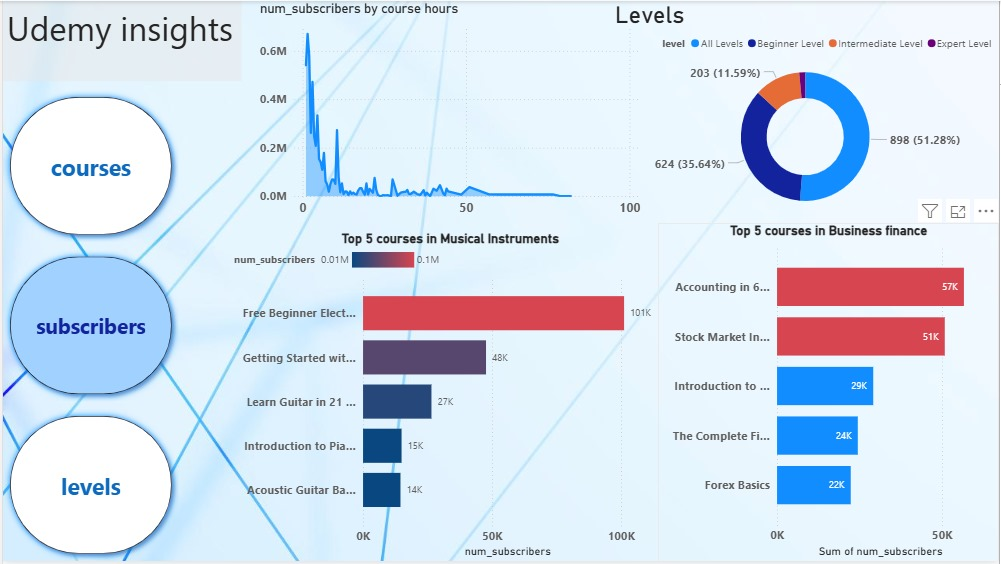

This screenshot's page, from the dashboard's own definition file:
{"tool":"powerbi","page":{"name":"subscribers","canvas":[1280,720],"ordinal":1},"visuals":[{"type":"areaChart","title":"num_subscribers by course hours","fields":{"Category":["Udemy.content_duration_by_hours"],"Y":["Sum(Udemy.num_subscribers)"]},"box":[324.7,0,499.1,285.8],"z":0},{"type":"clusteredBarChart","title":"Top 5 courses in Musical Instruments","fields":{"Y":["Sum(Udemy.num_subscribers)"],"Category":["Udemy.course_title"]},"box":[291.2,295.2,566.2,425.3],"z":1000},{"type":"clusteredBarChart","title":"Top 5 courses in Business finance","fields":{"Y":["Sum(Udemy.num_subscribers)"],"Category":["Udemy.course_title"]},"box":[841.3,285.8,438.7,434.7],"z":2000},{"type":"donutChart","title":"Levels","fields":{"Category":["Udemy.level"],"Y":["CountNonNull(Udemy.level)"]},"box":[780.9,0,499.1,285.8],"z":3000},{"type":"textbox","box":[0,0,307.3,103.3],"z":4000},{"type":"pageNavigator","box":[0,114.4,226.2,605.3],"z":4001}]}

Visuals, with their boxes in screenshot pixels (x1, y1, x2, y2), scaled from the page's 1280x720 canvas onto the 1001x564 screenshot:
"num_subscribers by course hours" areaChart: left=254, top=0, right=644, bottom=224
"Top 5 courses in Musical Instruments" clusteredBarChart: left=228, top=231, right=671, bottom=563
"Top 5 courses in Business finance" clusteredBarChart: left=658, top=224, right=1000, bottom=563
"Levels" donutChart: left=611, top=0, right=1000, bottom=224
textbox: left=0, top=0, right=240, bottom=81
pageNavigator: left=0, top=90, right=177, bottom=563
